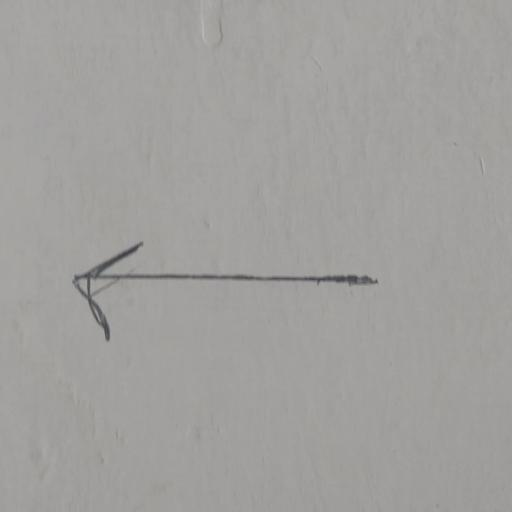stain: (64, 239, 386, 359)
